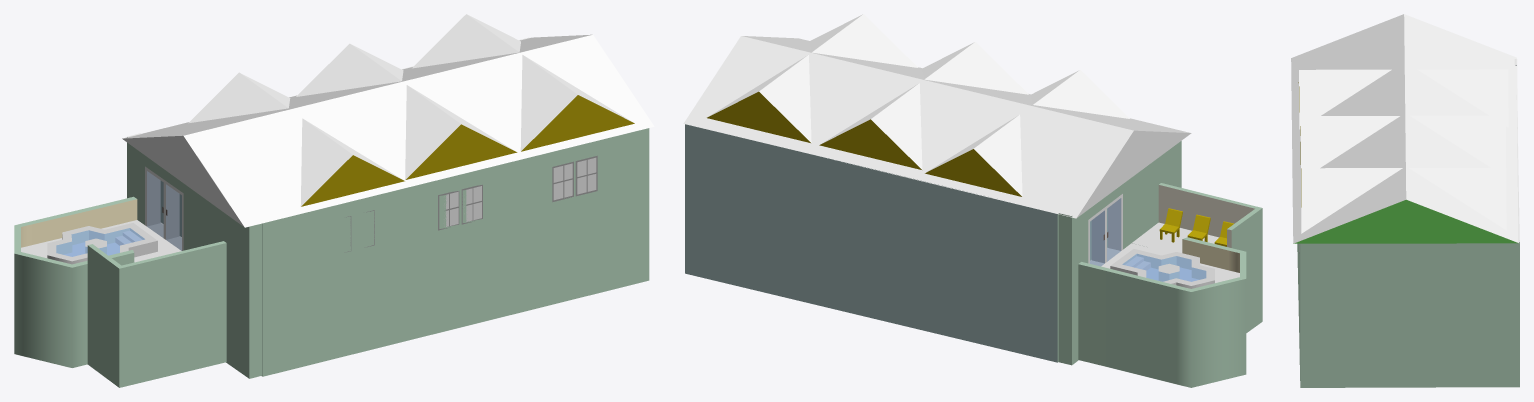
File: Spa_tilted.gltf
3 renders of one model, left to right at view 1: azimuth 30°, elevation 25°; view 2: azimuth 150°, elevation 25°; view 3: azimuth 270°, elevation 25°, orthographic. The views are drawn at different scales.
Visible parts, largest first — view 1: Mesh7 Group5 Group1 Component_1_1 Component_2_1 Model, Mesh17 Component_1_1 Component_2_1 Model, Mesh5 Group4 Group1 Component_1_1 Component_2_1 Model, Mesh9 Group6 Group1 Component_1_1 Component_2_1 Model, Mesh1 Group2 Group1 Component_1_1 Component_2_1 Model, Mesh3 Group3 Group1 Component_1_1 Component_2_1 Model, Mesh30 Component_2_1 Model, Mesh29 Component_2_1 Model, Mesh33 Component_2_1 Model, Mesh32 Component_2_1 Model; view 2: Mesh7 Group5 Group1 Component_1_1 Component_2_1 Model, Mesh17 Component_1_1 Component_2_1 Model, Mesh5 Group4 Group1 Component_1_1 Component_2_1 Model, Mesh9 Group6 Group1 Component_1_1 Component_2_1 Model, Mesh1 Group2 Group1 Component_1_1 Component_2_1 Model, Mesh3 Group3 Group1 Component_1_1 Component_2_1 Model, Mesh14 Group8 Component_1_1 Component_2_1 Model; view 3: Mesh7 Group5 Group1 Component_1_1 Component_2_1 Model, Mesh5 Group4 Group1 Component_1_1 Component_2_1 Model, Mesh9 Group6 Group1 Component_1_1 Component_2_1 Model, Mesh1 Group2 Group1 Component_1_1 Component_2_1 Model, Mesh3 Group3 Group1 Component_1_1 Component_2_1 Model.
Boxes of the visible parts, left/top/right/bottom form: Mesh7 Group5 Group1 Component_1_1 Component_2_1 Model: left=160, top=37, right=649, bottom=376; Mesh17 Component_1_1 Component_2_1 Model: left=14, top=133, right=262, bottom=387; Mesh5 Group4 Group1 Component_1_1 Component_2_1 Model: left=122, top=34, right=654, bottom=227; Mesh9 Group6 Group1 Component_1_1 Component_2_1 Model: left=412, top=14, right=634, bottom=151; Mesh1 Group2 Group1 Component_1_1 Component_2_1 Model: left=296, top=43, right=517, bottom=179; Mesh3 Group3 Group1 Component_1_1 Component_2_1 Model: left=188, top=72, right=404, bottom=206; Mesh30 Component_2_1 Model: left=575, top=155, right=597, bottom=196; Mesh29 Component_2_1 Model: left=552, top=161, right=573, bottom=202; Mesh33 Component_2_1 Model: left=461, top=184, right=482, bottom=224; Mesh32 Component_2_1 Model: left=438, top=191, right=459, bottom=230; Mesh7 Group5 Group1 Component_1_1 Component_2_1 Model: left=685, top=124, right=1107, bottom=362; Mesh17 Component_1_1 Component_2_1 Model: left=1058, top=141, right=1262, bottom=387; Mesh5 Group4 Group1 Component_1_1 Component_2_1 Model: left=683, top=36, right=1191, bottom=218; Mesh9 Group6 Group1 Component_1_1 Component_2_1 Model: left=707, top=14, right=917, bottom=143; Mesh1 Group2 Group1 Component_1_1 Component_2_1 Model: left=819, top=42, right=1028, bottom=169; Mesh3 Group3 Group1 Component_1_1 Component_2_1 Model: left=925, top=70, right=1129, bottom=196; Mesh14 Group8 Component_1_1 Component_2_1 Model: left=1159, top=208, right=1182, bottom=242; Mesh7 Group5 Group1 Component_1_1 Component_2_1 Model: left=1297, top=95, right=1519, bottom=387; Mesh5 Group4 Group1 Component_1_1 Component_2_1 Model: left=1291, top=14, right=1519, bottom=243; Mesh9 Group6 Group1 Component_1_1 Component_2_1 Model: left=1301, top=167, right=1506, bottom=233; Mesh1 Group2 Group1 Component_1_1 Component_2_1 Model: left=1300, top=115, right=1505, bottom=168; Mesh3 Group3 Group1 Component_1_1 Component_2_1 Model: left=1298, top=69, right=1508, bottom=129.
Size of the model in its own units: 2773 by 973 by 1069.
